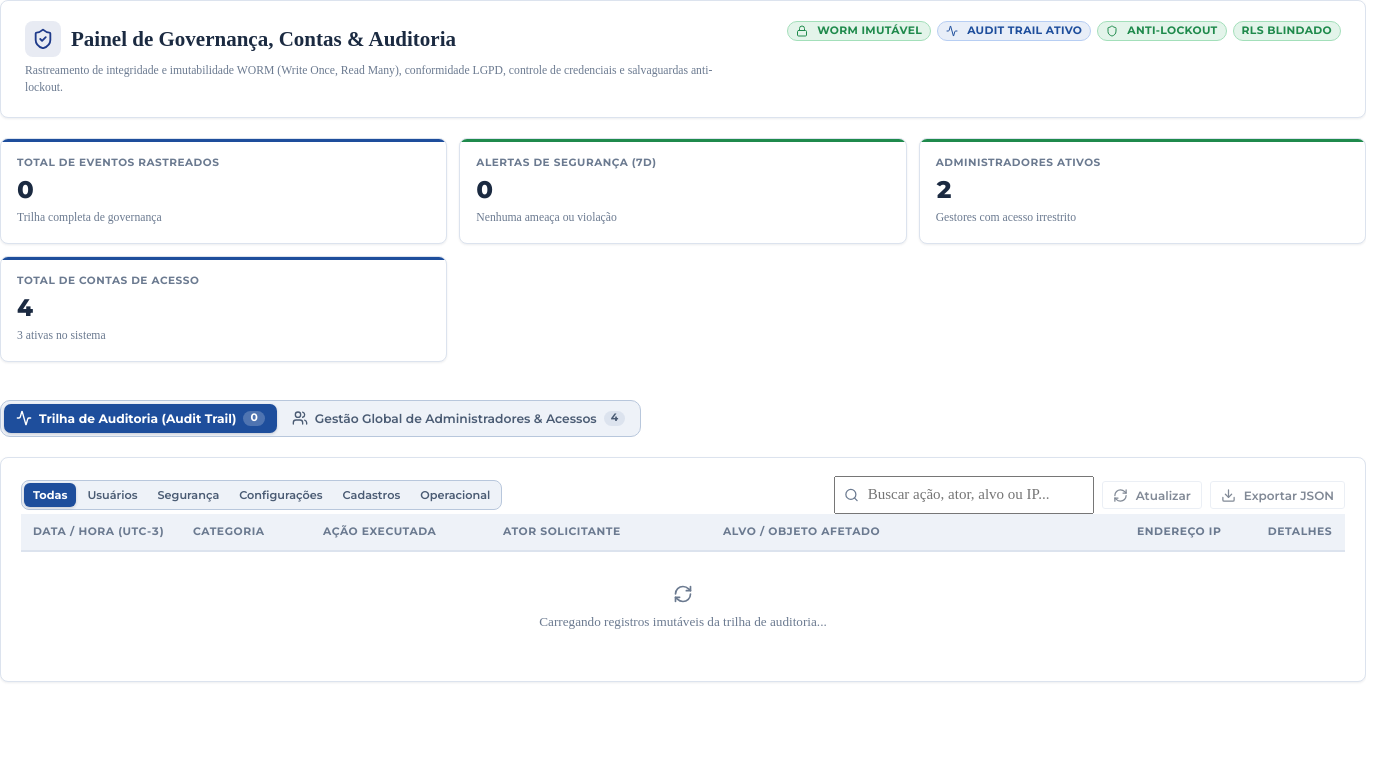
Test: AdminAuditView - Painel de Governança, Contas & Auditoria › 7. Alterna para a aba de Gestão Global de Administradores & Acessos e lista usuários
Click the tab "Gestão Global de Administradores & Acessos 4". click: (458, 418)
box: [280,404,637,433]
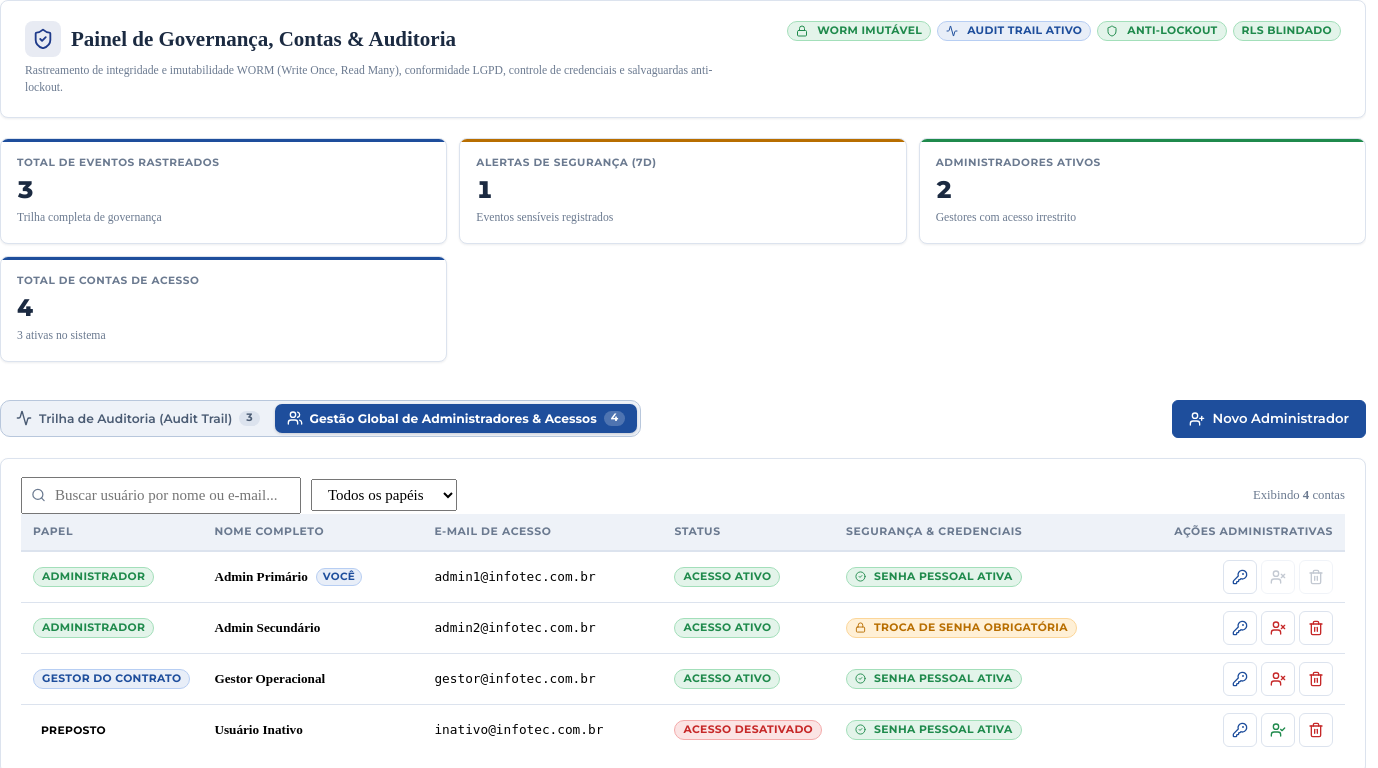
Check: the text "Admin Primário" is shown, box [214,567,308,586]
Check: the text "admin1@infotec.com.br" is shown, box [422,551,662,602]
Check: the text "Admin Secundário" is shown, box [214,618,320,637]
